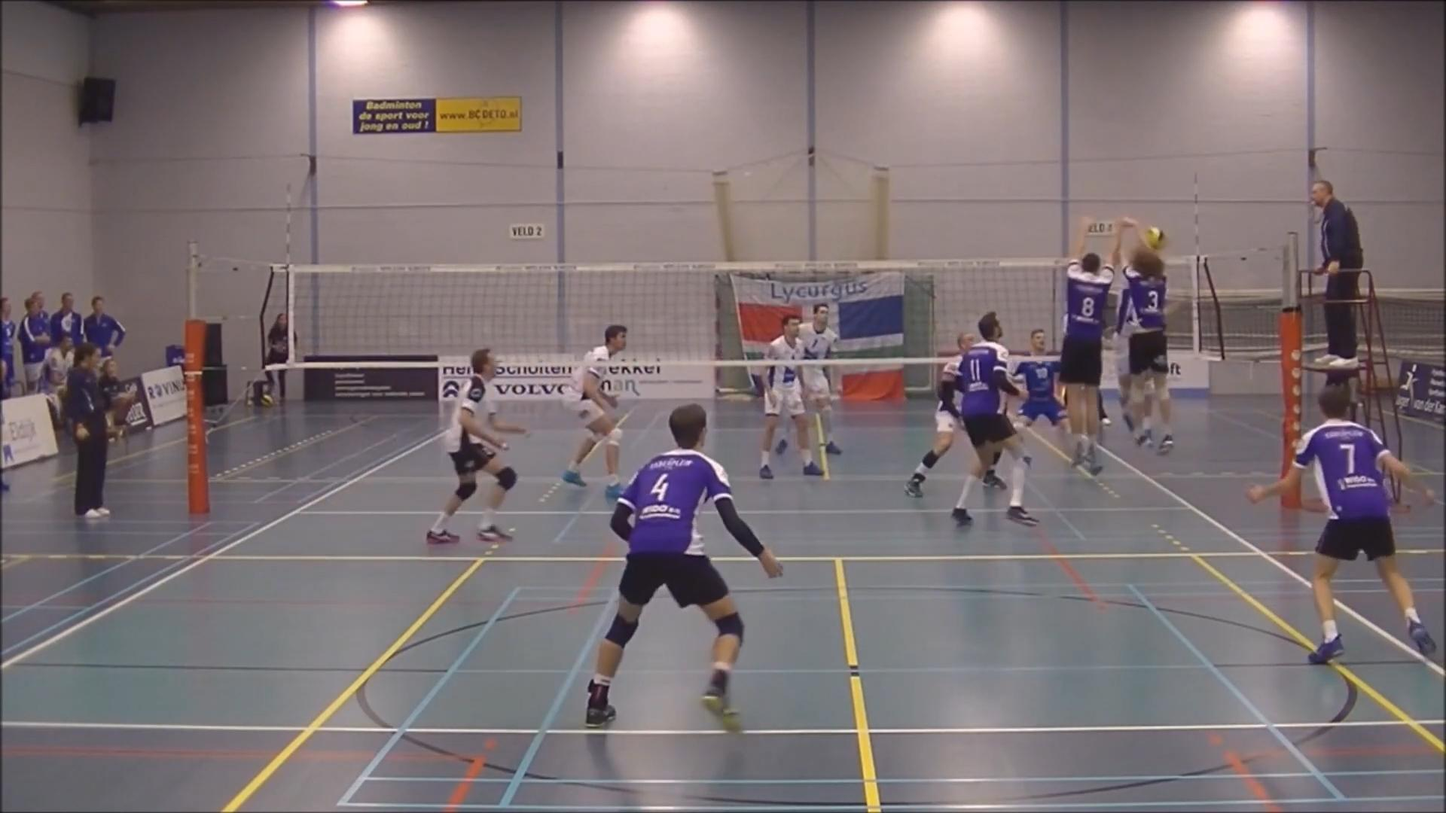muro: (1056, 210, 1126, 472), (1116, 213, 1185, 470)
